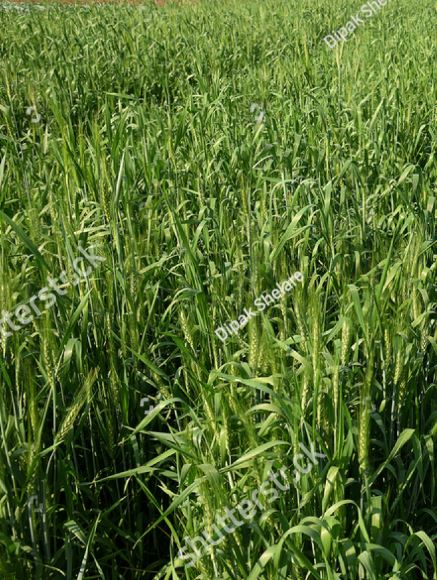Wheat: (69, 213, 393, 545)
